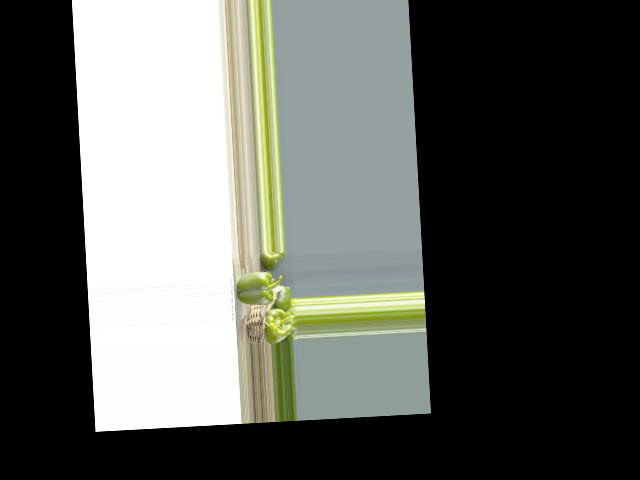bell_pepper: (263, 250, 285, 265)
